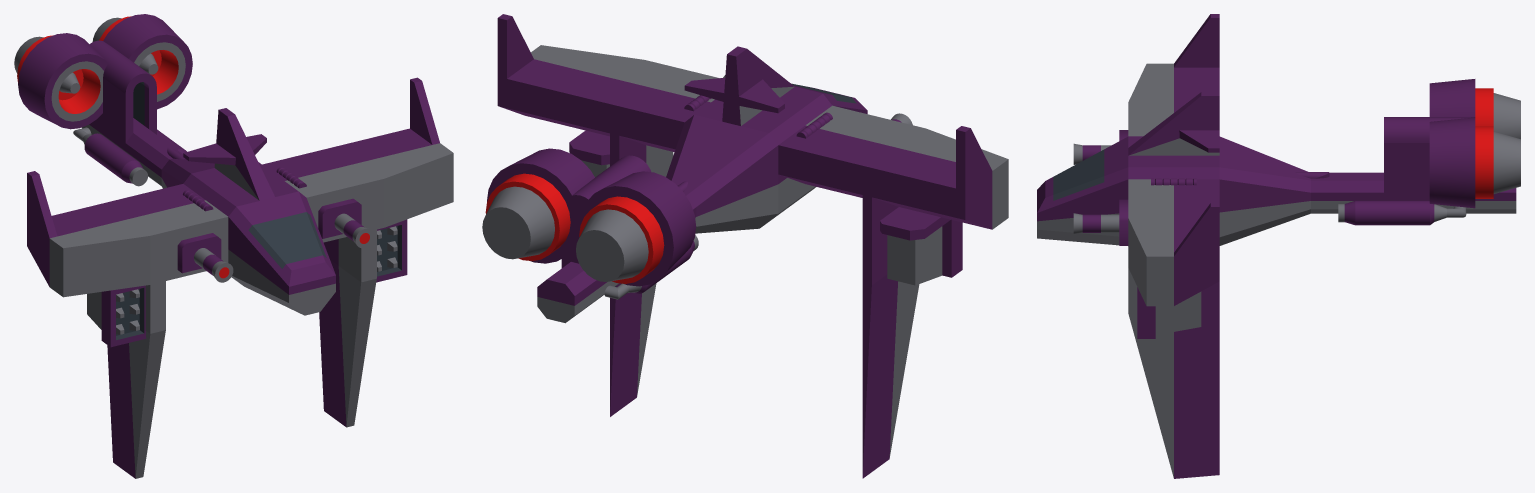
The model's file is spaceship1.glb.
3 views of the same model, side by side, from view 1: azimuth 30°, elevation 25°; view 2: azimuth 150°, elevation 25°; view 3: azimuth 270°, elevation 25° (orthographic). The views are drawn at different scales.
Visible parts, largest first — view 1: mergedBlocks(Clone); view 2: mergedBlocks(Clone); view 3: mergedBlocks(Clone).
Boxes of the visible parts, x1,y1,x2,y2 form: mergedBlocks(Clone): [14, 14, 453, 478]; mergedBlocks(Clone): [482, 14, 1008, 478]; mergedBlocks(Clone): [1037, 14, 1520, 478].
Size of the model in its own units: 5 by 4 by 5.3.
